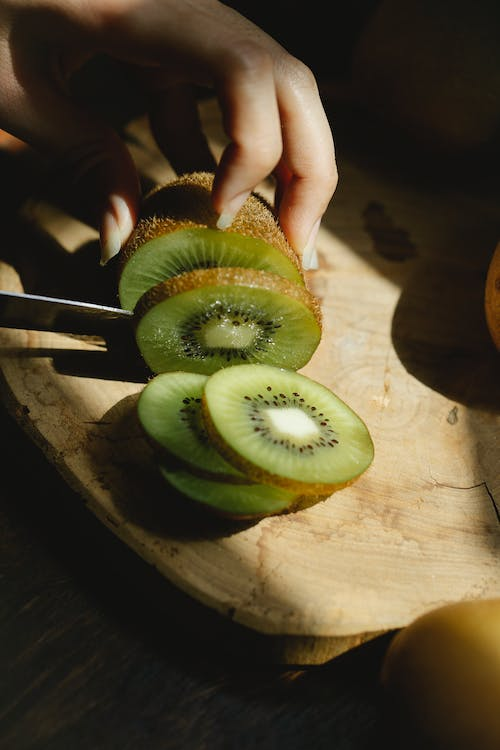knife: (0, 287, 134, 339)
